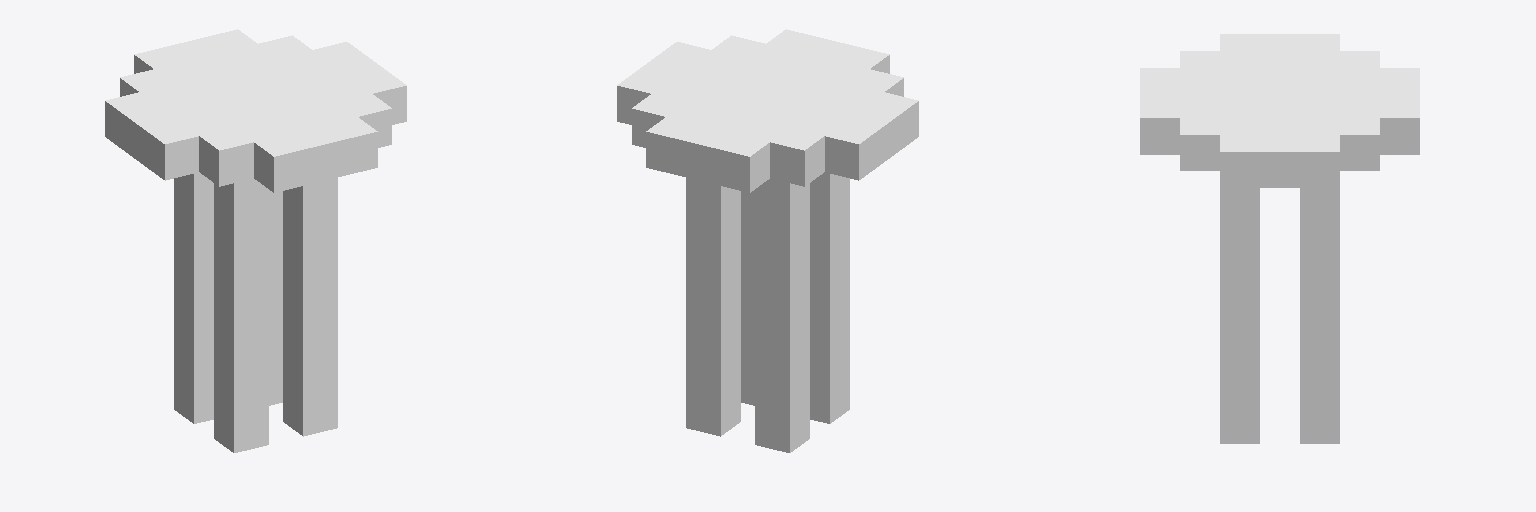
File: Decor-83.obj
The picture shows the model from 3 angles: view 1: azimuth 30°, elevation 25°; view 2: azimuth 150°, elevation 25°; view 3: azimuth 270°, elevation 25°; orthographic projection.
Parts seen in each view (by area): view 1: object 1; view 2: object 1; view 3: object 1.
Boxes of the visible parts, <box> form: object 1: <box>105,29,406,452</box>; object 1: <box>617,29,918,452</box>; object 1: <box>1140,34,1419,443</box>.
Size of the model in its own units: 0.7 by 0.9 by 0.7.